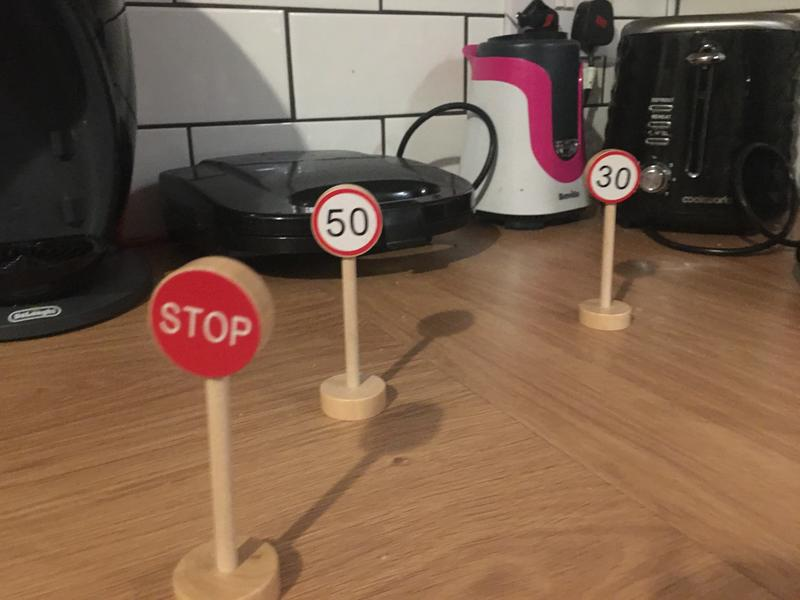Traffic_Sign_30: (586, 150, 640, 203)
Traffic_Sign_50: (311, 187, 383, 258)
Traffic_Sign_Stop: (149, 269, 261, 377)
